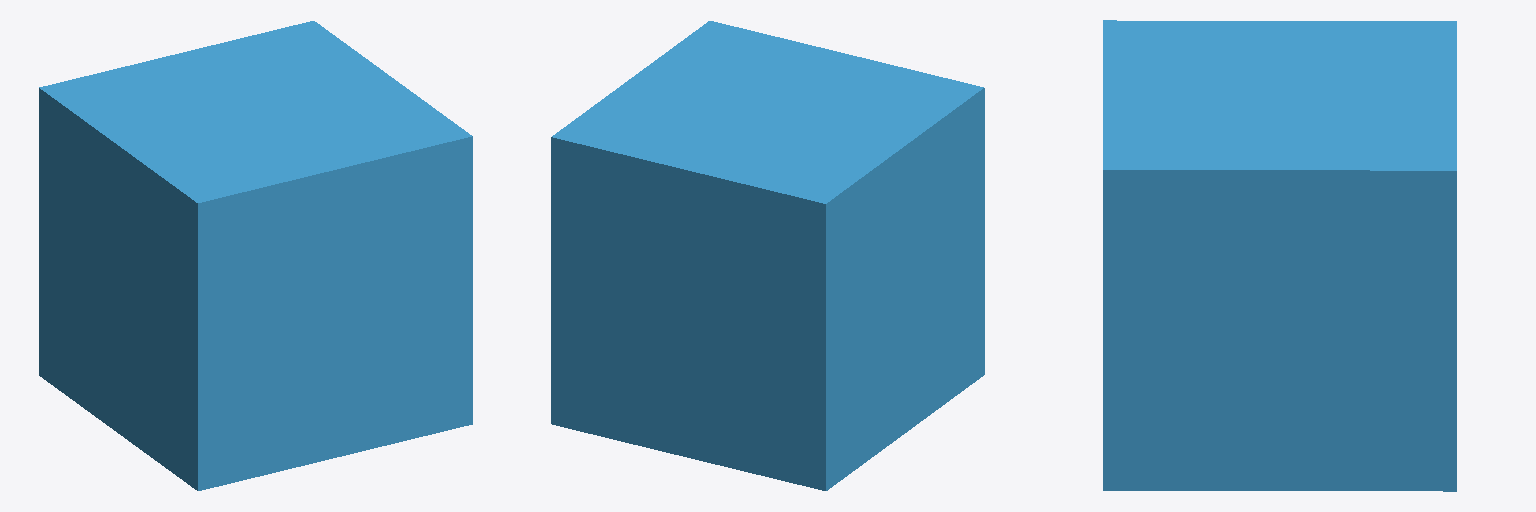
robot.urdf — camera_robot:
<?xml version="1.0"?>
<robot name="camera_robot" xmlns:xacro="http://www.ros.org/wiki/xacro">

  <!-- Fixed frame "world" -->
  <link name="world">
    <!-- No visual or collision properties needed for the fixed frame -->
  </link>

  <!-- Camera link -->
  <link name="camera">
    <!-- Define the camera link visual properties (optional) -->
    <visual>
      <geometry>
        <box size="0.1 0.1 0.1"/>
      </geometry>
      <material name="grey"/>
    </visual>
  </link>

  <!-- Joint connecting world to camera_link_optical -->
  <joint name="world_to_camera" type="fixed">
    <parent link="world"/>
    <child link="camera"/>
    <!-- Position the camera frame with the z-axis pointing down -->
    <origin xyz="0.54 -0.195 0.68" rpy="3.14 0 0"/>
  </joint>


</robot>

--- Render facts (derived) ---
3 views of the same robot in one strip: view 1: azimuth 30°, elevation 25°; view 2: azimuth 150°, elevation 25°; view 3: azimuth 270°, elevation 25° (orthographic).
Robot: camera_robot — 2 links, 1 joints (1 fixed); root link world; default pose: all joints at 0.
Links seen in each view (by area): view 1: camera; view 2: camera; view 3: camera.
Link boxes in pixels (<box>): camera: <box>39,21,472,490</box>; camera: <box>551,21,984,490</box>; camera: <box>1103,20,1456,491</box>.
Size in the robot's own frame: 0.1 by 0.1002 by 0.1002 metres.
Geometry: primitives only (box / cylinder / sphere), no mesh files.
